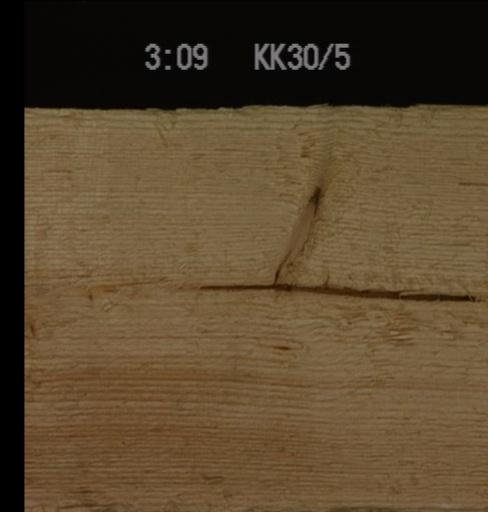small_knot: (24, 316, 47, 336)
